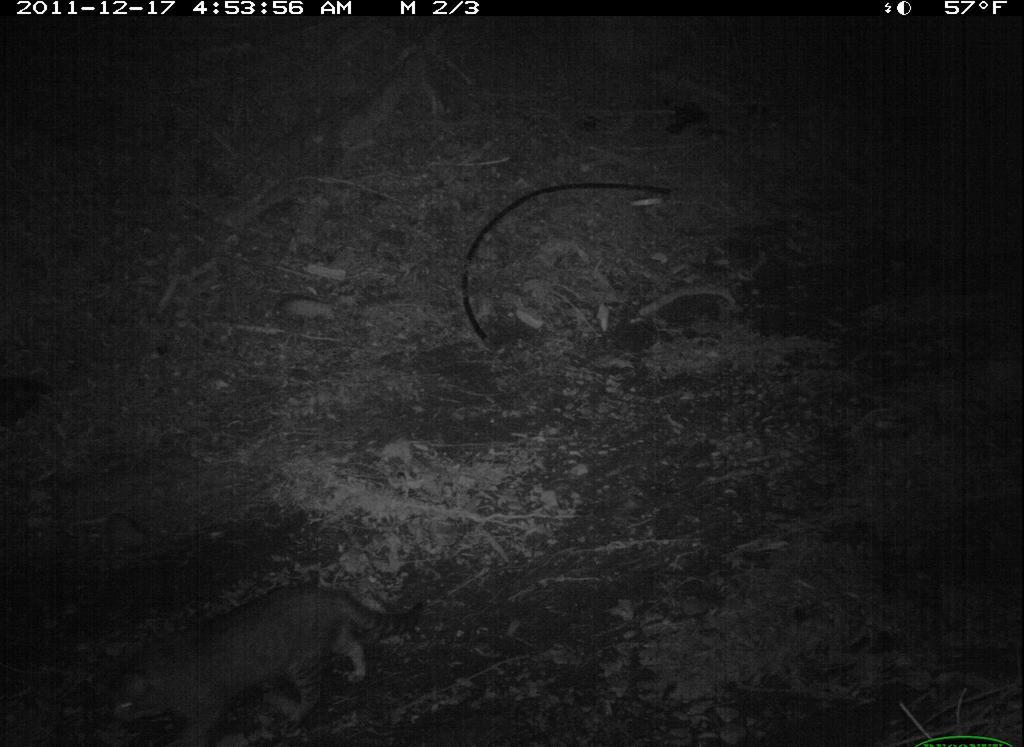cat: (89, 556, 420, 747)
